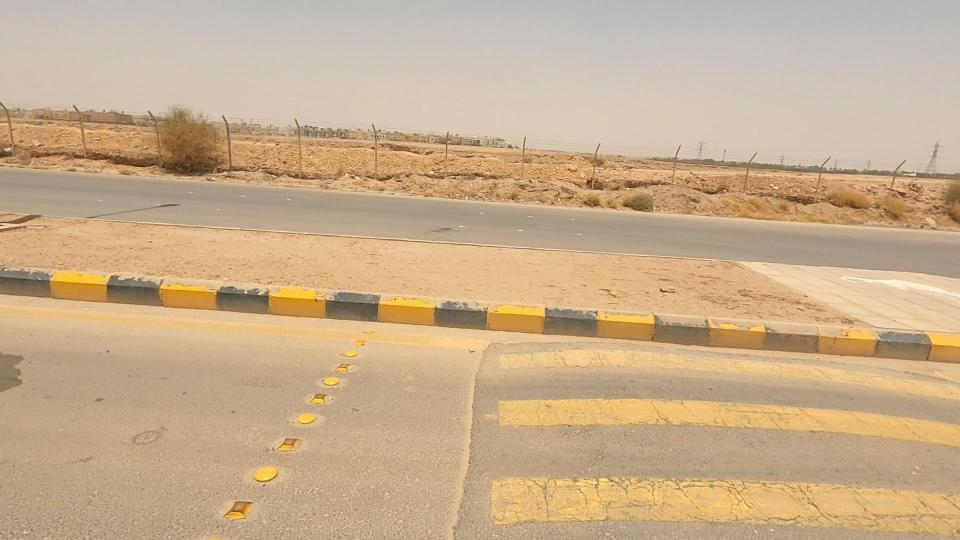CLUTTER_SIDEWALK: (248, 183, 827, 357), (0, 169, 439, 337)
